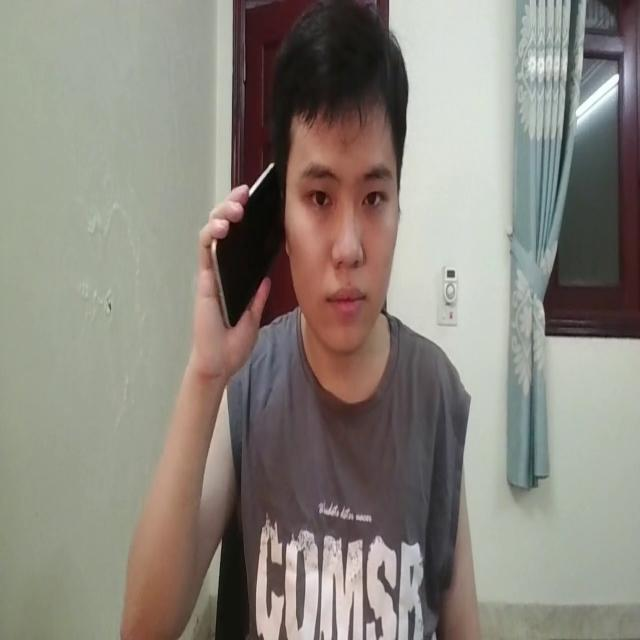phone: (204, 144, 299, 312)
student: (132, 10, 479, 640)
